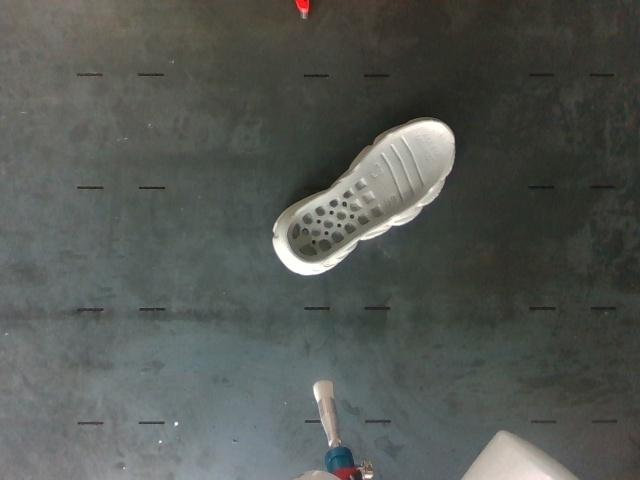shoes: (287, 122, 454, 262)
